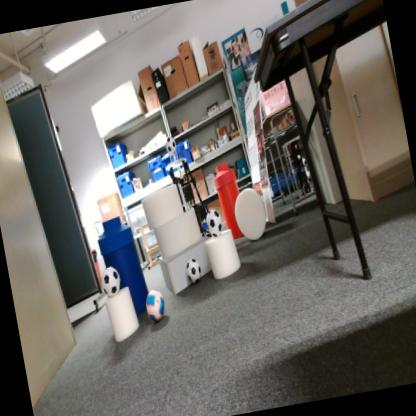ball: (143, 288, 167, 323), (98, 264, 122, 298), (204, 206, 224, 238), (184, 256, 203, 284), (164, 135, 178, 154)
